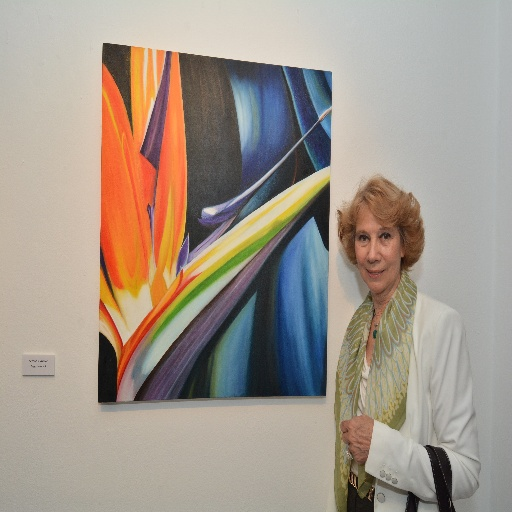hand: (344, 413, 380, 473)
